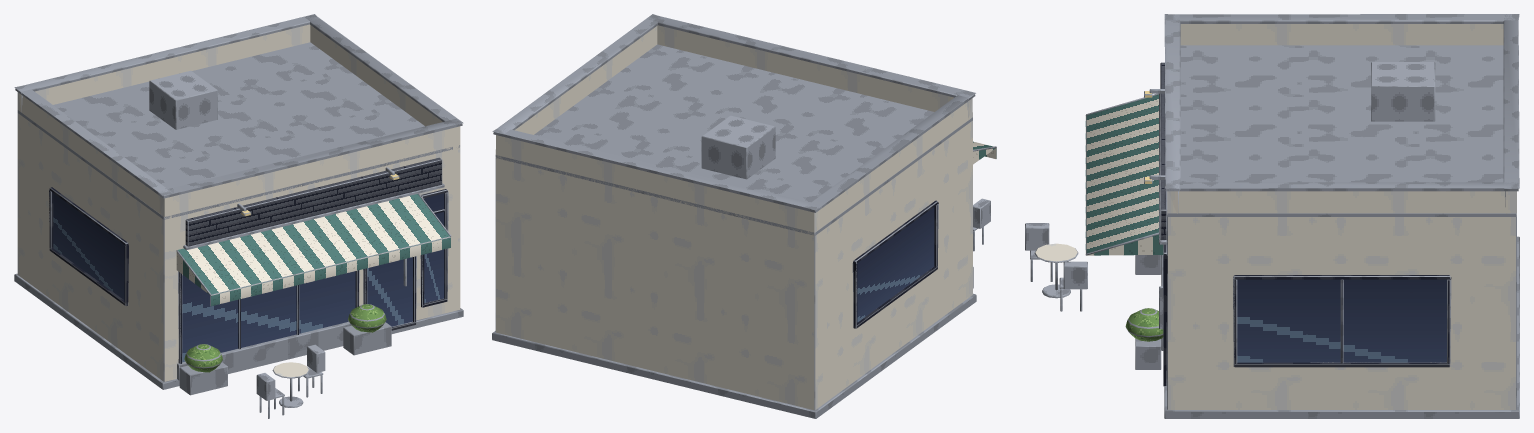
Rendered from modern_shop_0.glb.
3 renders of one model, left to right at view 1: azimuth 30°, elevation 25°; view 2: azimuth 150°, elevation 25°; view 3: azimuth 270°, elevation 25°, orthographic. The views are drawn at different scales.
Visible parts, largest first — view 1: modern_shop_1; view 2: modern_shop_1; view 3: modern_shop_1.
Part boxes in pixels (x1,y1,x2,y2): modern_shop_1: [14, 14, 463, 418]; modern_shop_1: [492, 14, 996, 418]; modern_shop_1: [1025, 14, 1519, 418].
Bounding box in the file's own units: 7.14 × 4.55 × 8.49.
Materials: 9 (9 with a texture image).
